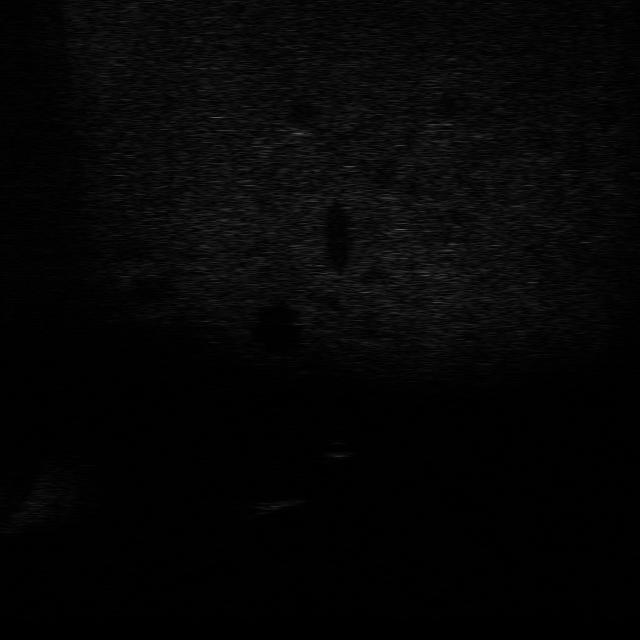ball: (315, 436, 359, 461)
square cage: (234, 492, 305, 524)
